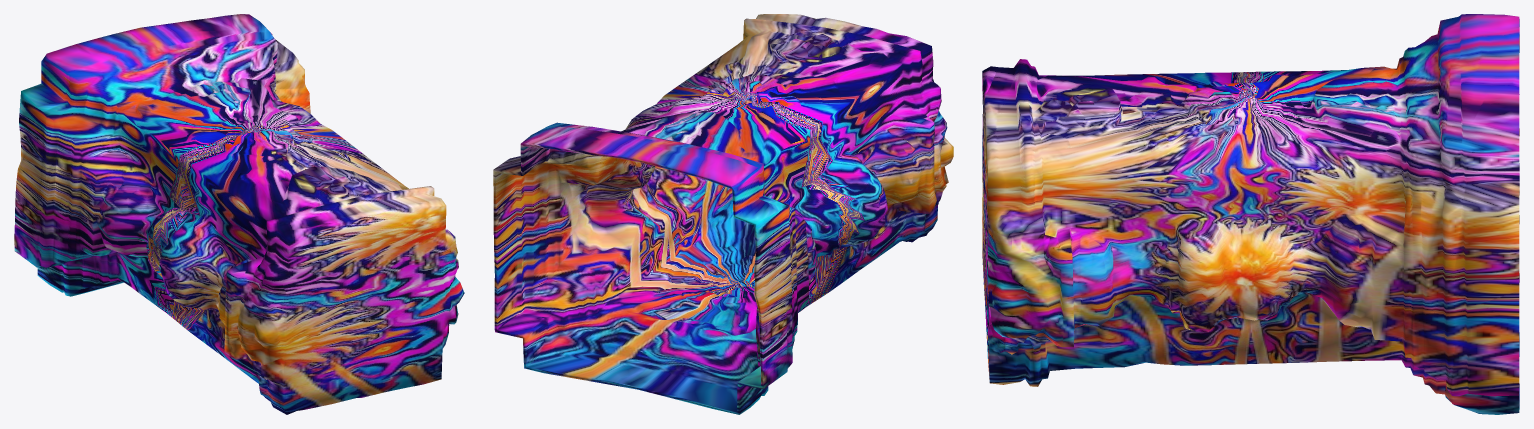
The model's file is tds_column-07.glb.
3 views of the same model, side by side, from view 1: azimuth 30°, elevation 25°; view 2: azimuth 150°, elevation 25°; view 3: azimuth 270°, elevation 25° (orthographic). The views are drawn at different scales.
Parts seen in each view (by area): view 1: A; view 2: A; view 3: A.
Part boxes in pixels (bbox=[...]): A: bbox=[14, 14, 464, 414]; A: bbox=[493, 14, 953, 414]; A: bbox=[982, 14, 1519, 414].
Size of the model in its own units: 1.39 by 1.17 by 2.
Materials: 1 (1 with a texture image).
